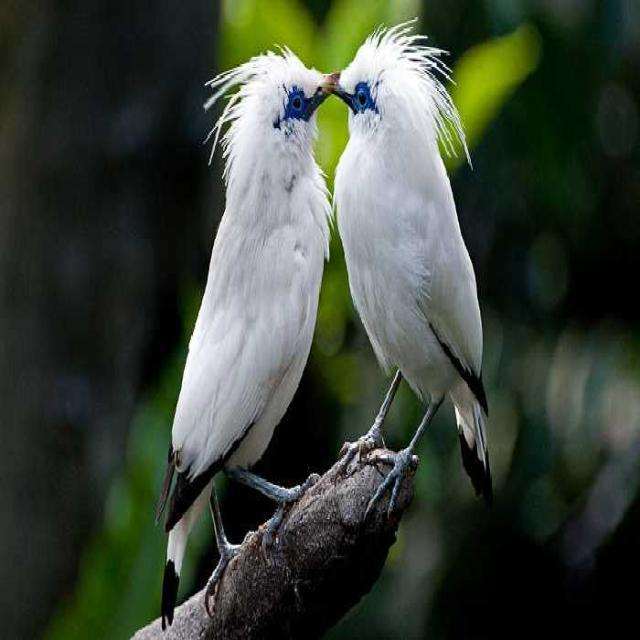Jalak Bali: (142, 25, 338, 640), (321, 2, 513, 518)
